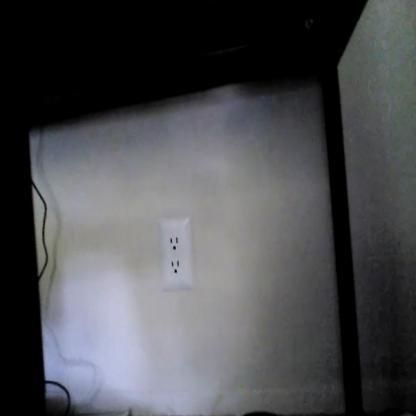OUTLET: (158, 217, 194, 292)
